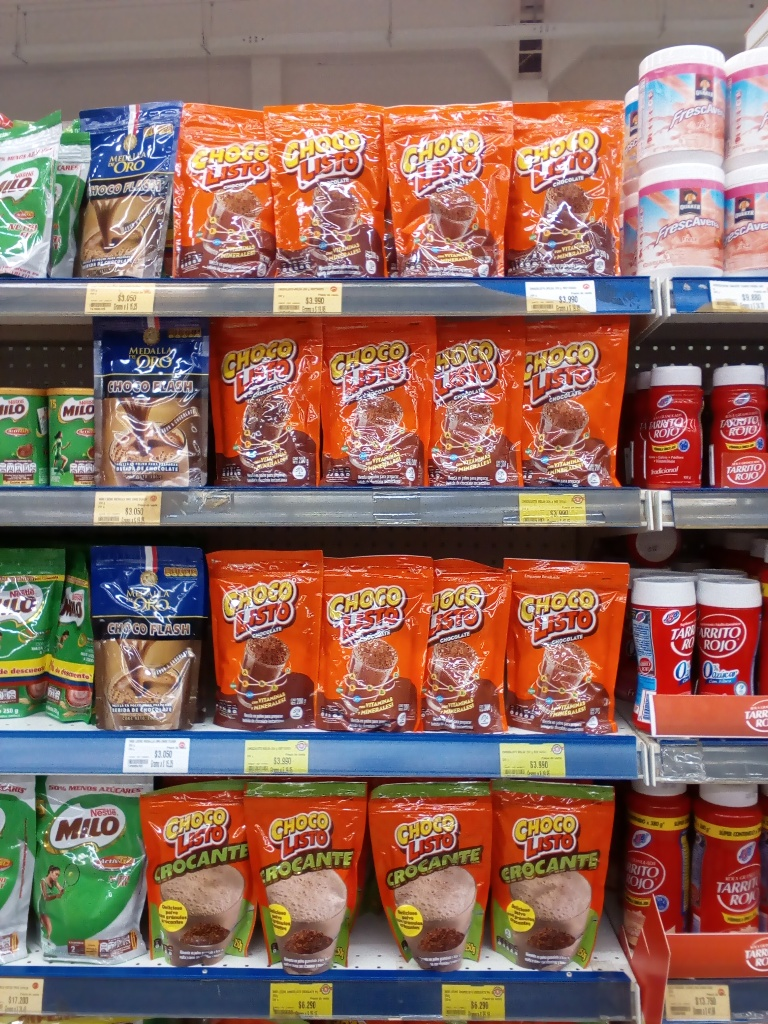COL0170102DYP25000: (143, 781, 254, 974)
COL0170103DYP20000: (203, 545, 320, 738)
COL0170203DYP25000: (43, 545, 99, 727)
COL0170203LAT20000: (46, 383, 100, 486)
COL0170205DYP20000: (1, 111, 69, 282)
COL0170205DYP50000: (36, 771, 153, 966)
